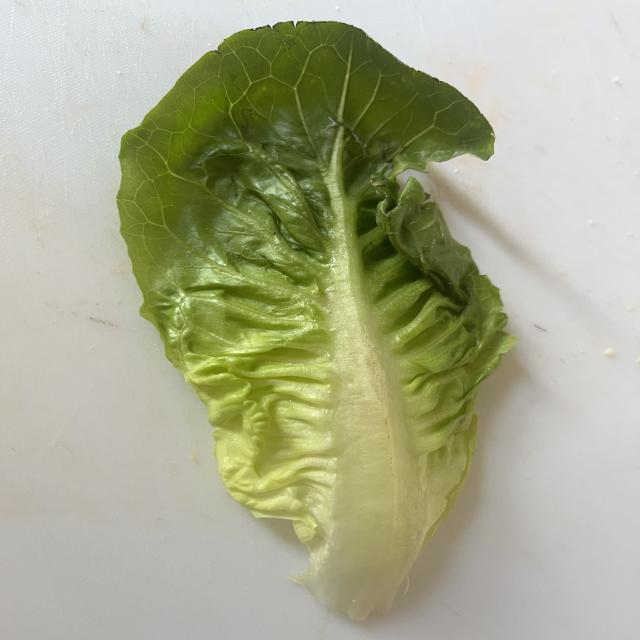lettuce: (118, 23, 514, 619)
